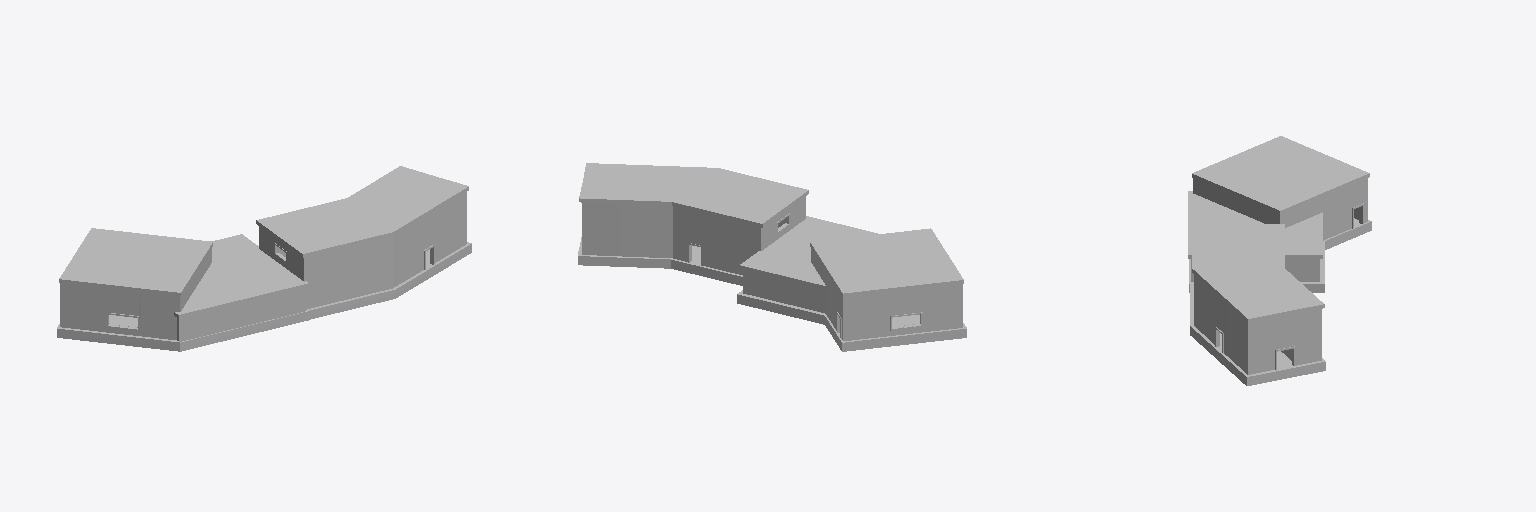
File: Observatory_House_02_LOD0.obj
3 views of the same model, side by side, from view 1: azimuth 30°, elevation 25°; view 2: azimuth 150°, elevation 25°; view 3: azimuth 270°, elevation 25° (orthographic).
Visible parts, largest first — view 1: Observatory_House_02_LOD0_0, Observatory_House_02_LOD0_1; view 2: Observatory_House_02_LOD0_0, Observatory_House_02_LOD0_1; view 3: Observatory_House_02_LOD0_0, Observatory_House_02_LOD0_1.
Part boxes in pixels (x1,y1,x2,y2): Observatory_House_02_LOD0_0: (57, 166, 471, 351); Observatory_House_02_LOD0_1: (106, 243, 434, 330); Observatory_House_02_LOD0_0: (578, 163, 966, 351); Observatory_House_02_LOD0_1: (688, 213, 922, 338); Observatory_House_02_LOD0_0: (1188, 136, 1371, 385); Observatory_House_02_LOD0_1: (1215, 203, 1363, 369).
Size of the model in its own units: 44.23 by 7.03 by 17.64.